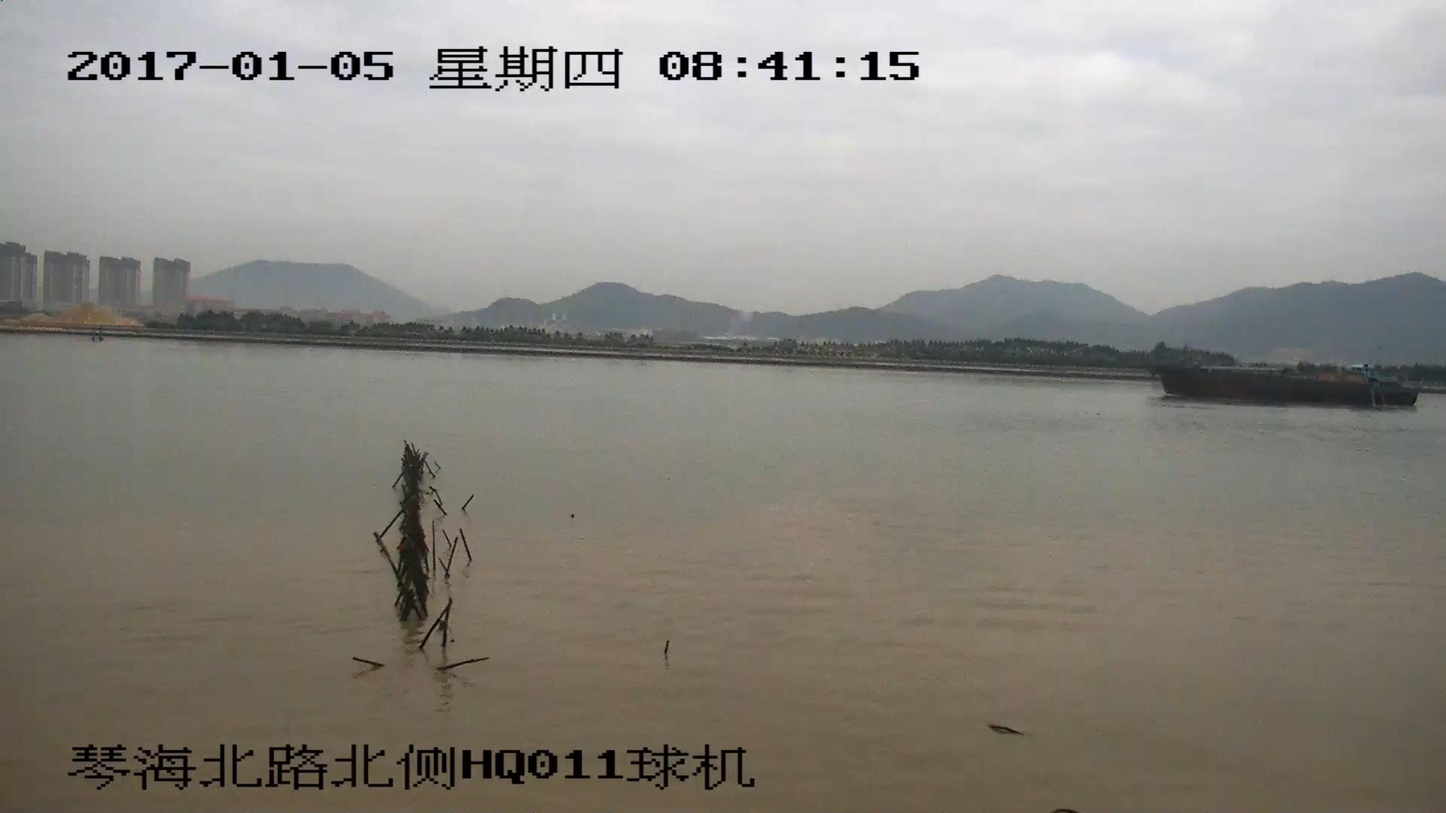bulk cargo carrier: (1148, 352, 1419, 402)
